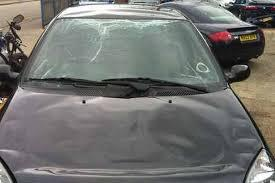Front-Windscreen-Damage: (18, 12, 244, 91)
bonnet-dent: (5, 87, 257, 182)
